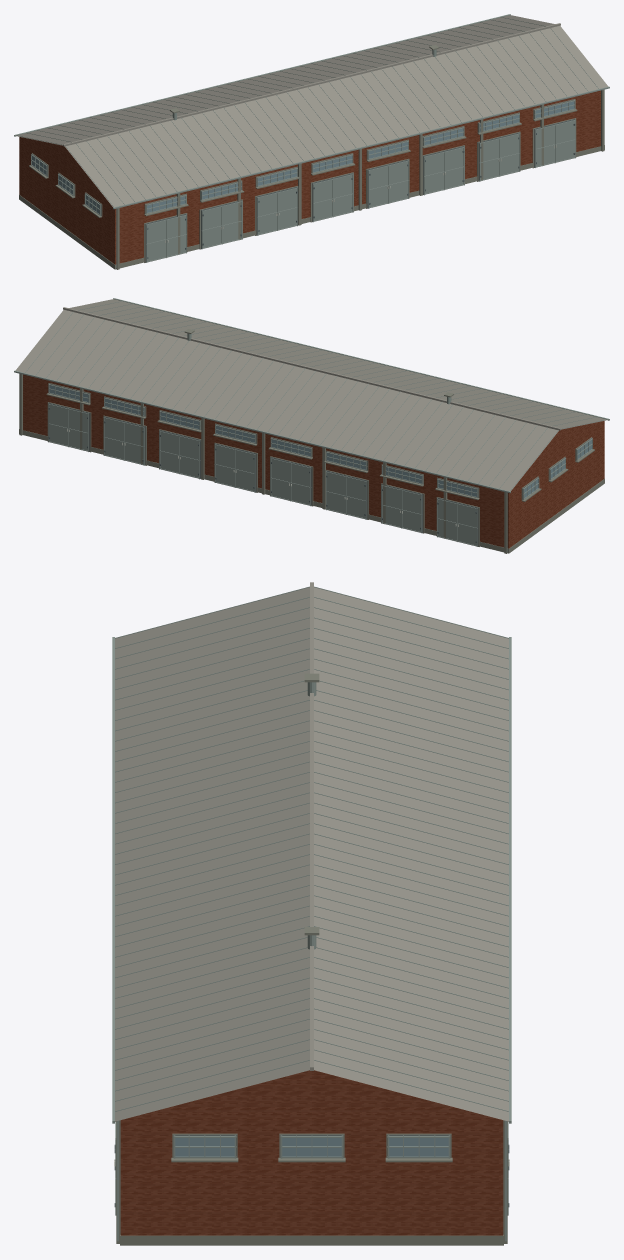
File: port_warehouse_main.glb
The picture shows the model from 3 angles, top to bottom: view 1: azimuth 30°, elevation 25°; view 2: azimuth 150°, elevation 25°; view 3: azimuth 270°, elevation 25°; orthographic projection. The views are drawn at different scales.
Visible parts, largest first — view 1: port_warehouse_main; view 2: port_warehouse_main; view 3: port_warehouse_main.
Boxes of the visible parts, x1=… form: port_warehouse_main: x1=14, y1=14, x2=609, y2=269; port_warehouse_main: x1=14, y1=298, x2=609, y2=553; port_warehouse_main: x1=112, y1=582, x2=511, y2=1245.
Bounding box in the file's own units: 66 × 12.48 × 22.96.
Materials: 7 (2 with a texture image).
